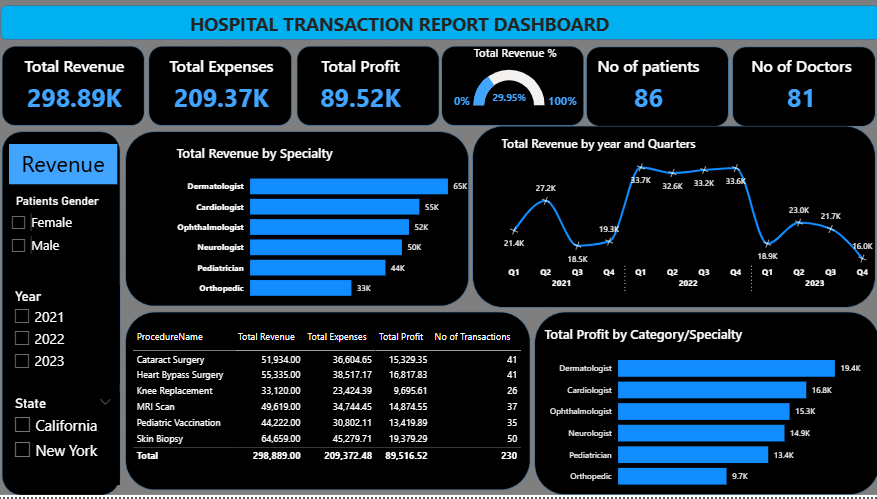

Layout of this report page (visuals, bound fields, positions):
{"tool":"powerbi","page":{"name":"Page 1","canvas":[1280,720],"ordinal":0},"visuals":[{"type":"image","box":[10.5,0,1269.5,720.2],"z":0},{"type":"card","title":"Total Revenue","fields":{"Values":["doctors.Total Revenue"]},"box":[27.9,83.7,189,92.4],"z":1000},{"type":"card","title":"Total Expenses","fields":{"Values":["doctors.Total Expenses"]},"box":[238.9,83.7,189,92.4],"z":2000},{"type":"card","title":"Total Profit","fields":{"Values":["doctors.Total Profit"]},"box":[439.5,83.7,189,92.4],"z":3000},{"type":"card","title":"No of patients","fields":{"Values":["doctors.No of Patients"]},"box":[854.5,83.7,189,92.4],"z":4000},{"type":"card","title":"No of Doctors","fields":{"Values":["doctors.No of Doctors"]},"box":[1074.2,83.7,189,92.4],"z":5000},{"type":"gauge","title":"Profit Margin (%)","fields":{"Y":["doctors.Profit Margin %"]},"box":[657.4,69.8,197.1,106.4],"z":6000},{"type":"textbox","box":[99.4,14,796.9,55.8],"z":7000},{"type":"barChart","fields":{"Category":["doctors.Specialty"],"Y":["doctors.Total Revenue"]},"box":[264,212,442,236],"z":8000},{"type":"lineChart","title":"Total Revenue by year and Quarters","fields":{"Category":["transactions.Year","transactions.Quarter"],"Y":["Sum(transactions.Revenue)"]},"box":[732,198,548,236],"z":9000},{"type":"barChart","title":"Total Profit by Category/Specialty","fields":{"Category":["procedures.Specialty"],"Y":["doctors.Total Profit"]},"box":[794,472,468,248],"z":10000},{"type":"tableEx","fields":{"Values":["procedures.ProcedureName","doctors.Total Revenue","doctors.Total Expenses","doctors.Total Profit","doctors.No of Transactions"]},"box":[200,472,572,226],"z":11000},{"type":"textbox","box":[28,212,156,58],"z":12000},{"type":"slicer","title":"Patients Gender","fields":{"Values":["patients.Gender"]},"box":[19.4,283.9,156.9,109.3],"z":13000},{"type":"slicer","fields":{"Values":["transactions.Year"]},"box":[22.9,414.3,164,142.8],"z":14000},{"type":"slicer","fields":{"Values":["patients.State"]},"box":[22.9,569.5,164,134],"z":15000}]}

Visuals, with their boxes in screenshot pixels (x1, y1, x2, y2), scaled from the page's 1280x720 canvas onto the 877x499 screenshot:
image: [7,0,876,498]
"Total Revenue" card: [19,58,149,122]
"Total Expenses" card: [164,58,293,122]
"Total Profit" card: [301,58,431,122]
"No of patients" card: [585,58,715,122]
"No of Doctors" card: [736,58,865,122]
"Profit Margin (%)" gauge: [450,48,585,122]
textbox: [68,10,614,48]
barChart - doctors.Specialty x doctors.Total Revenue: [181,147,484,310]
"Total Revenue by year and Quarters" lineChart: [502,137,876,301]
"Total Profit by Category/Specialty" barChart: [544,327,865,498]
tableEx - procedures.ProcedureName x doctors.Total Revenue: [137,327,529,484]
textbox: [19,147,126,187]
"Patients Gender" slicer: [13,197,121,273]
slicer - transactions.Year: [16,287,128,386]
slicer - patients.State: [16,395,128,488]
